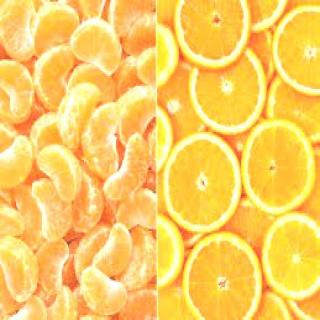orange: (228, 97, 320, 226), (160, 126, 243, 240), (100, 127, 162, 205)
